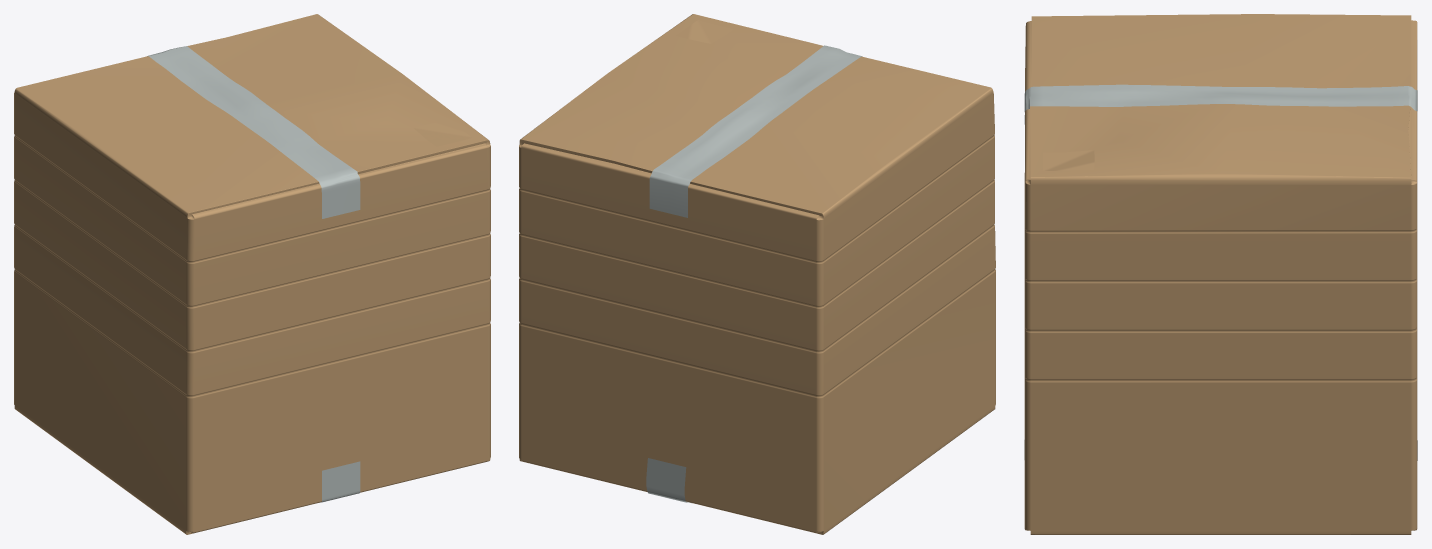
Rendered from box_multiDepth_a01.glb.
3 views of the same model, side by side, from view 1: azimuth 30°, elevation 25°; view 2: azimuth 150°, elevation 25°; view 3: azimuth 270°, elevation 25° (orthographic). The views are drawn at different scales.
Size of the model in its own units: 0.2017 by 0.2063 by 0.2037.
